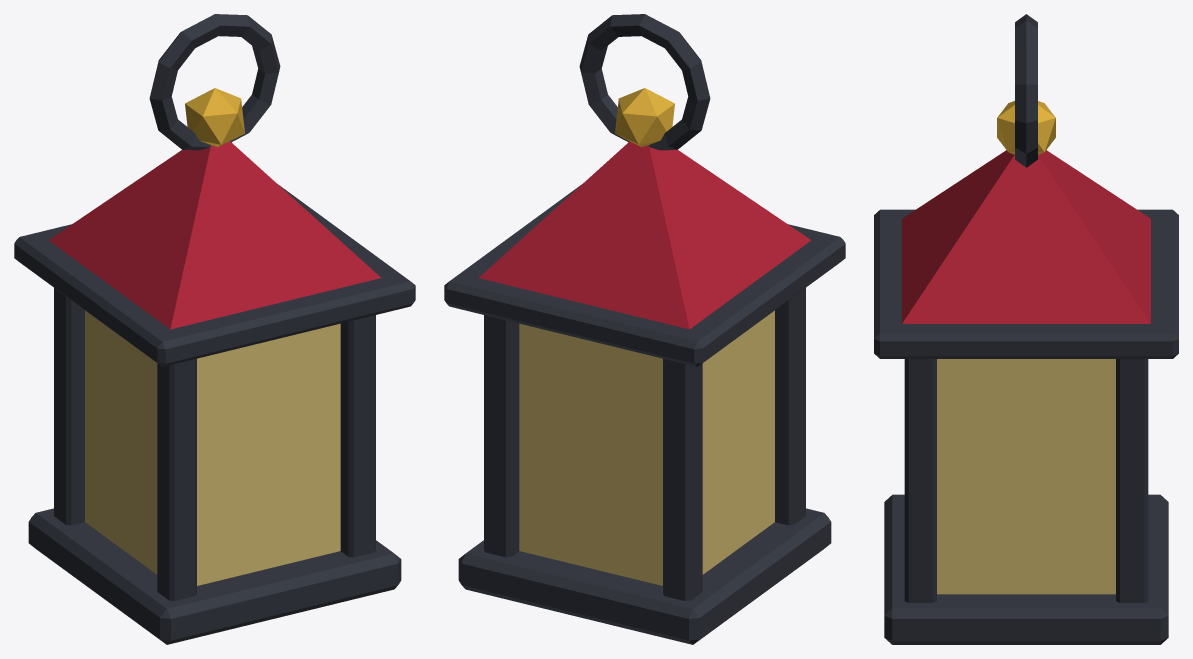
File: Lantern.glb
3 views of the same model, side by side, from view 1: azimuth 30°, elevation 25°; view 2: azimuth 150°, elevation 25°; view 3: azimuth 270°, elevation 25° (orthographic). The views are drawn at different scales.
Parts seen in each view (by area): view 1: Lantern; view 2: Lantern; view 3: Lantern.
Part boxes in pixels (left/top/right/bottom): Lantern: left=14, top=14, right=415, bottom=644; Lantern: left=444, top=14, right=845, bottom=644; Lantern: left=874, top=14, right=1178, bottom=644.
Size of the model in its own units: 1.8 by 3.7 by 1.8.
